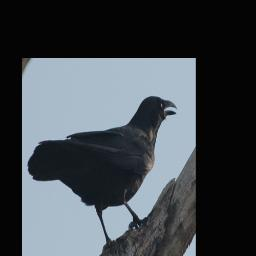Crow: (27, 94, 179, 252)
